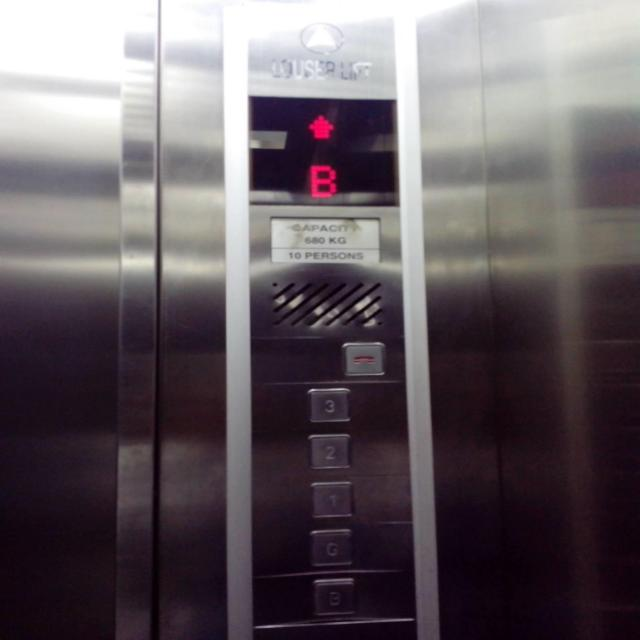1: (309, 481, 353, 519)
2: (306, 434, 351, 470)
3: (306, 388, 351, 423)
B: (311, 577, 356, 616)
G: (309, 528, 353, 568)
call: (340, 342, 388, 378)
led: (248, 94, 400, 207)
